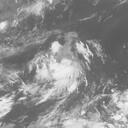cyclone: (31, 51, 83, 102)
